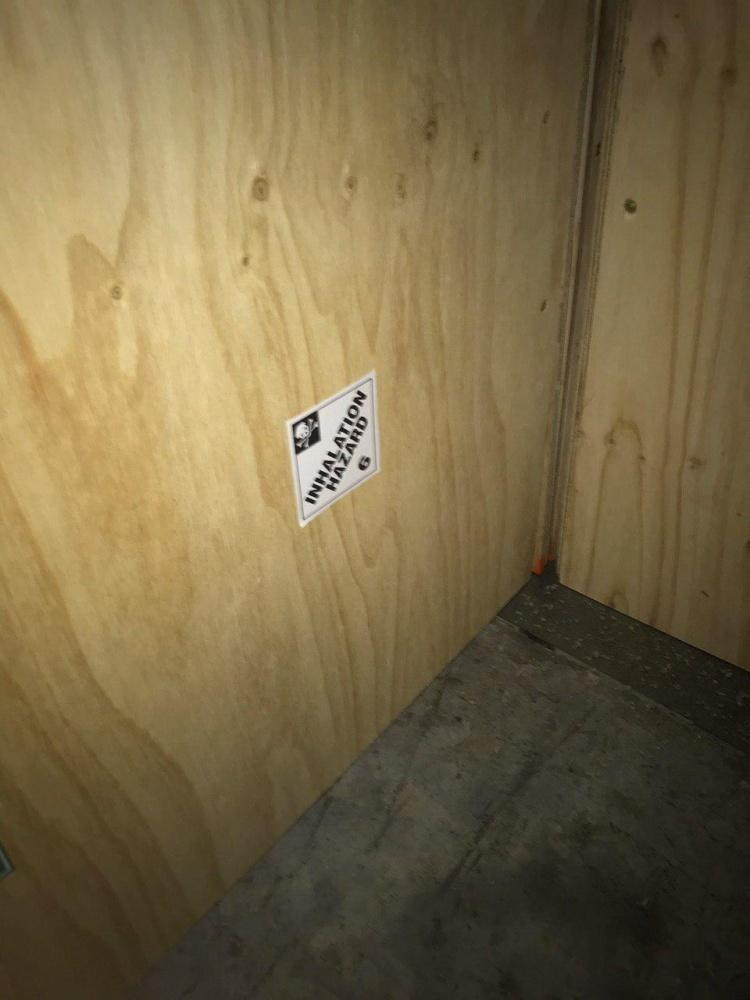poison: (283, 371, 387, 531)
